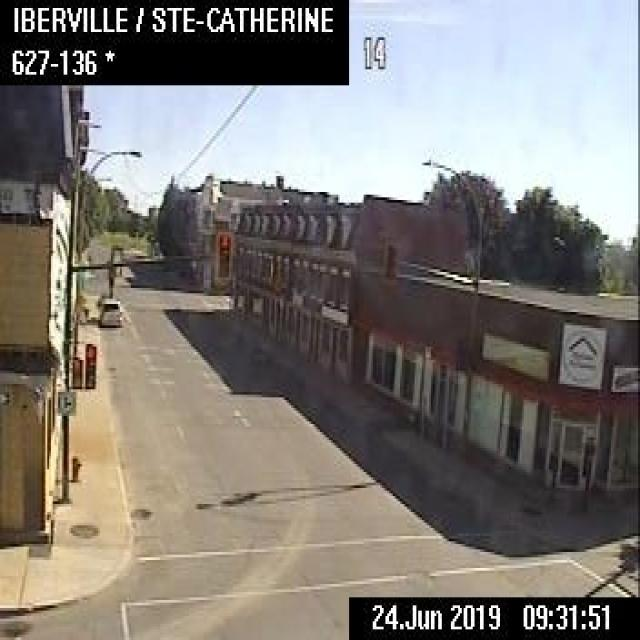vehicle: (98, 297, 121, 324)
